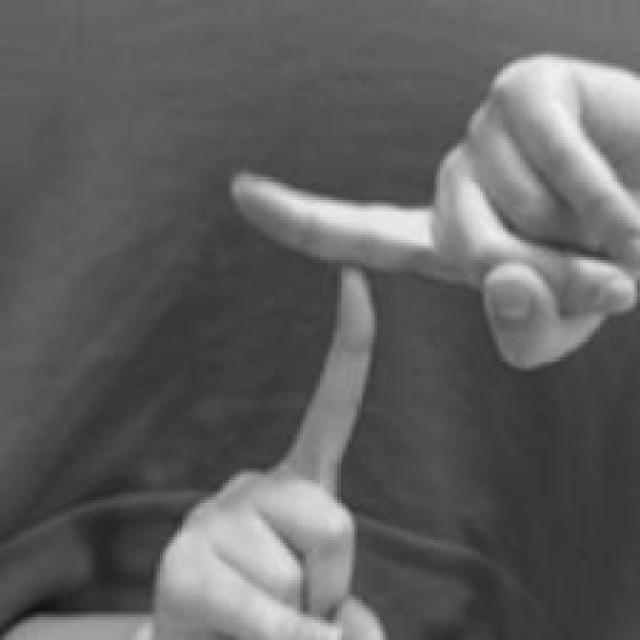T: (155, 52, 635, 640)
